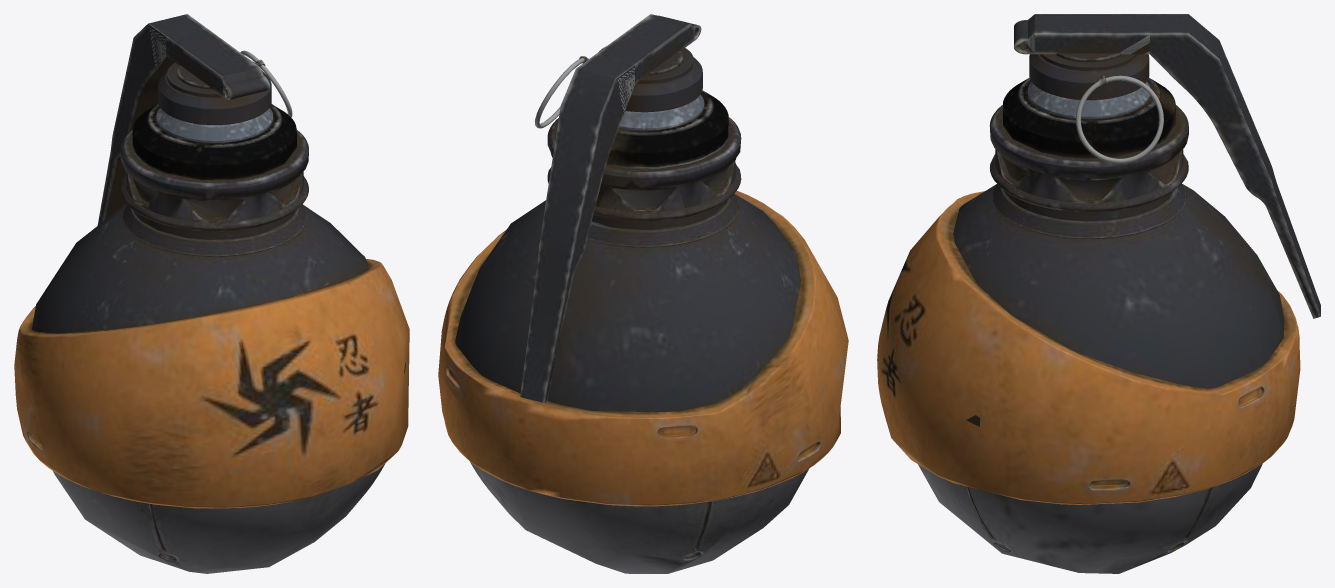
Rendered from grenade.glb.
The picture shows the model from 3 angles, left to right: view 1: azimuth 30°, elevation 25°; view 2: azimuth 150°, elevation 25°; view 3: azimuth 270°, elevation 25°; orthographic projection. The views are drawn at different scales.
Parts seen in each view (by area): view 1: Sphere.001, Sphere, Sphere.002, Cube.002, Sphere.004, Cylinder.001, Cylinder; view 2: Sphere, Sphere.001, Cube.002, Sphere.002, Sphere.004, Cylinder.001, Cylinder, Circle.001; view 3: Sphere.001, Sphere, Cube.002, Sphere.002, Sphere.004, Cylinder.001, Cylinder, Circle.001.
Boxes of the visible parts, bbox=[...] form: Sphere.001: bbox=[14, 259, 409, 508]; Sphere: bbox=[31, 203, 405, 573]; Sphere.002: bbox=[120, 129, 308, 231]; Cube.002: bbox=[97, 14, 269, 225]; Sphere.004: bbox=[132, 104, 296, 179]; Cylinder.001: bbox=[158, 61, 271, 124]; Cylinder: bbox=[156, 108, 272, 142]; Sphere: bbox=[455, 194, 808, 573]; Sphere.001: bbox=[438, 191, 848, 506]; Cube.002: bbox=[520, 14, 701, 402]; Sphere.002: bbox=[547, 117, 741, 221]; Sphere.004: bbox=[606, 90, 728, 168]; Cylinder.001: bbox=[599, 47, 702, 112]; Cylinder: bbox=[619, 94, 704, 130]; Circle.001: bbox=[534, 57, 584, 128]; Sphere.001: bbox=[877, 191, 1300, 504]; Sphere: bbox=[918, 184, 1284, 573]; Cube.002: bbox=[1014, 14, 1320, 318]; Sphere.002: bbox=[989, 105, 1188, 212]; Sphere.004: bbox=[1003, 77, 1175, 158]; Cylinder.001: bbox=[1029, 53, 1149, 99]; Cylinder: bbox=[1027, 82, 1150, 118]; Circle.001: bbox=[1076, 75, 1163, 163].
Bounding box in the file's own units: 0.9229 × 1.29 × 0.9659.
Materials: 10 (10 with a texture image).
